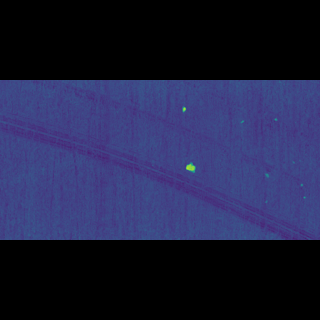Loch: (0, 134, 318, 202), (15, 119, 305, 175), (183, 159, 197, 167), (180, 131, 187, 136)
